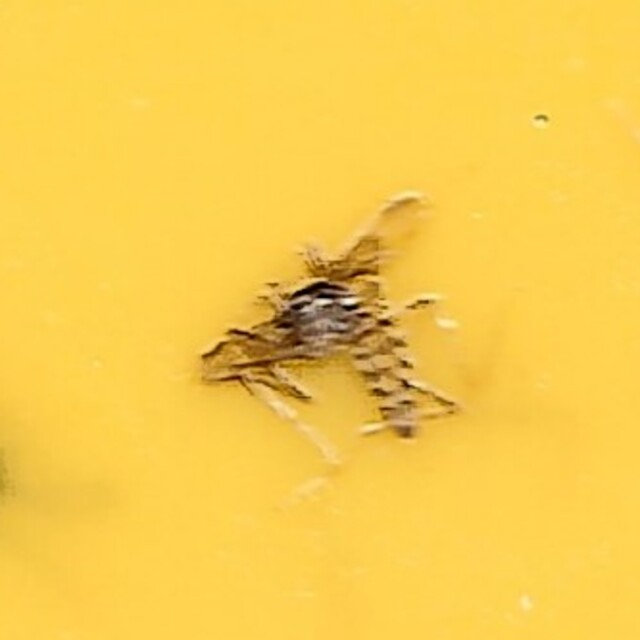Nematocera: (192, 189, 448, 451)
